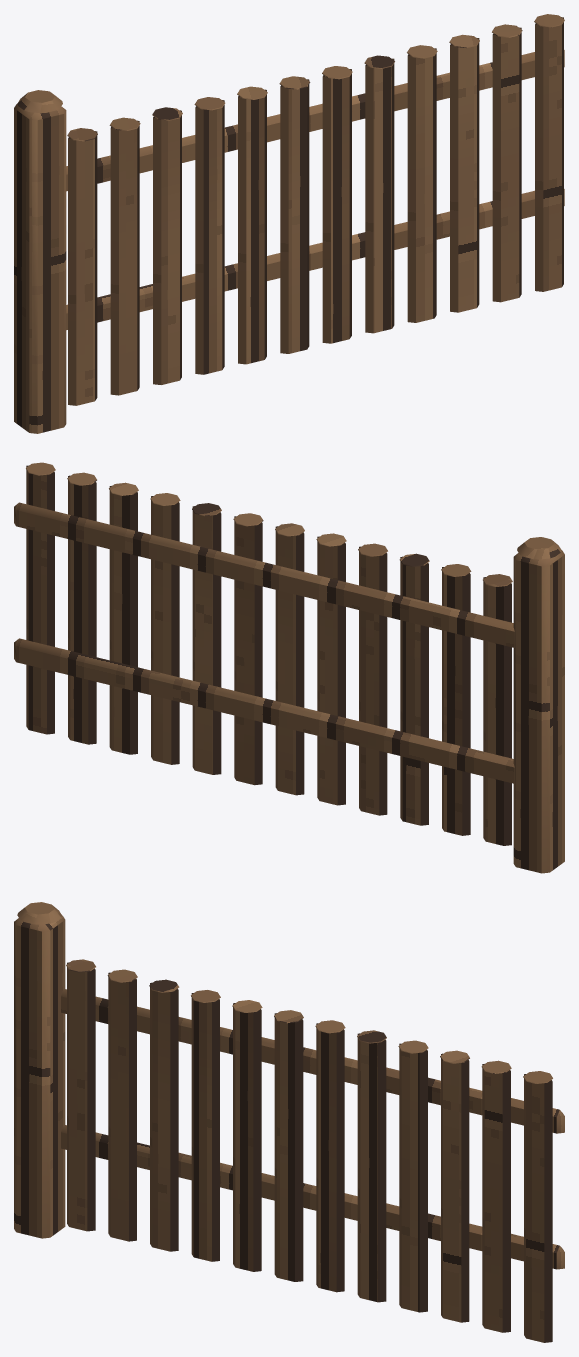
File: fence_3.glb
3 renders of one model, top to bottom at view 1: azimuth 30°, elevation 25°; view 2: azimuth 150°, elevation 25°; view 3: azimuth 330°, elevation 25°, orthographic. The views are drawn at different scales.
Parts seen in each view (by area): view 1: fence_4; view 2: fence_4; view 3: fence_4.
Boxes of the visible parts, <box> form: fence_4: <box>14,14,564,433</box>; fence_4: <box>14,462,564,873</box>; fence_4: <box>14,902,564,1342</box>.
Bounding box in the file's own units: 2.07 × 1.18 × 0.1441.
2 materials, 2 textured.
